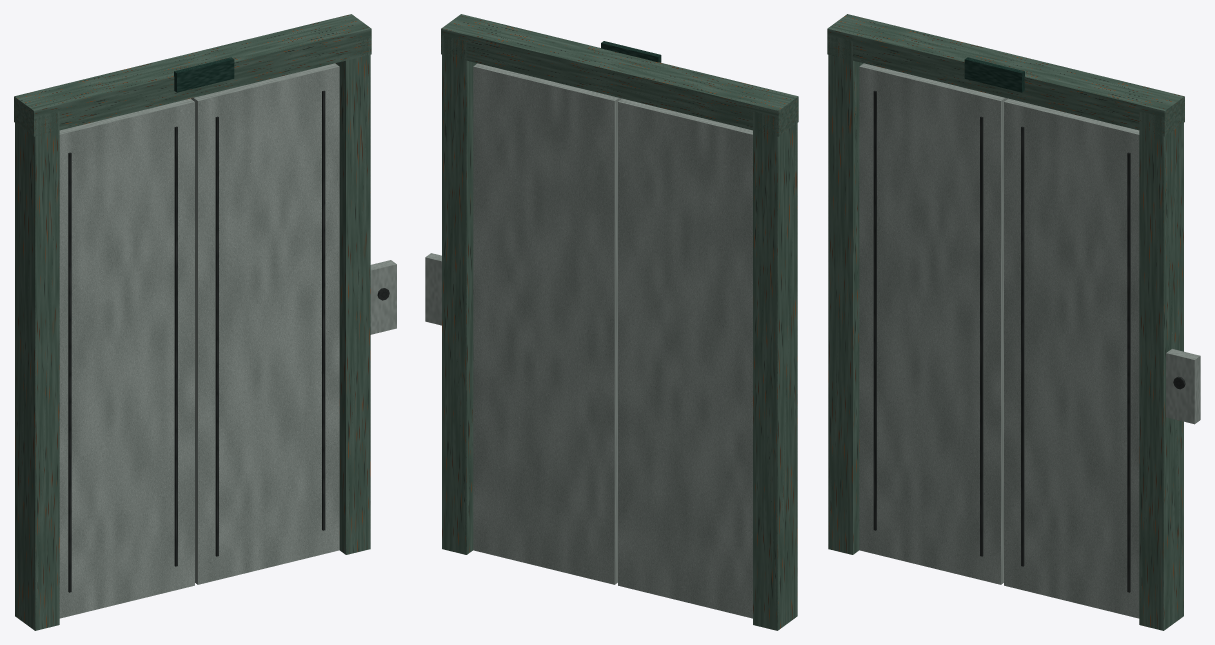
Rendered from ElevatorDoors.glb.
The picture shows the model from 3 angles, left to right: view 1: azimuth 30°, elevation 25°; view 2: azimuth 150°, elevation 25°; view 3: azimuth 330°, elevation 25°; orthographic projection.
Parts seen in each view (by area): view 1: ElevatorDoors; view 2: ElevatorDoors; view 3: ElevatorDoors.
Part boxes in pixels (box(x1,y1,x2,y2)): ElevatorDoors: box(14, 14, 396, 630); ElevatorDoors: box(425, 14, 798, 630); ElevatorDoors: box(827, 14, 1200, 630).
Size of the model in its own units: 1.78 by 2.45 by 0.1925.
Materials: 4 (4 with a texture image).
